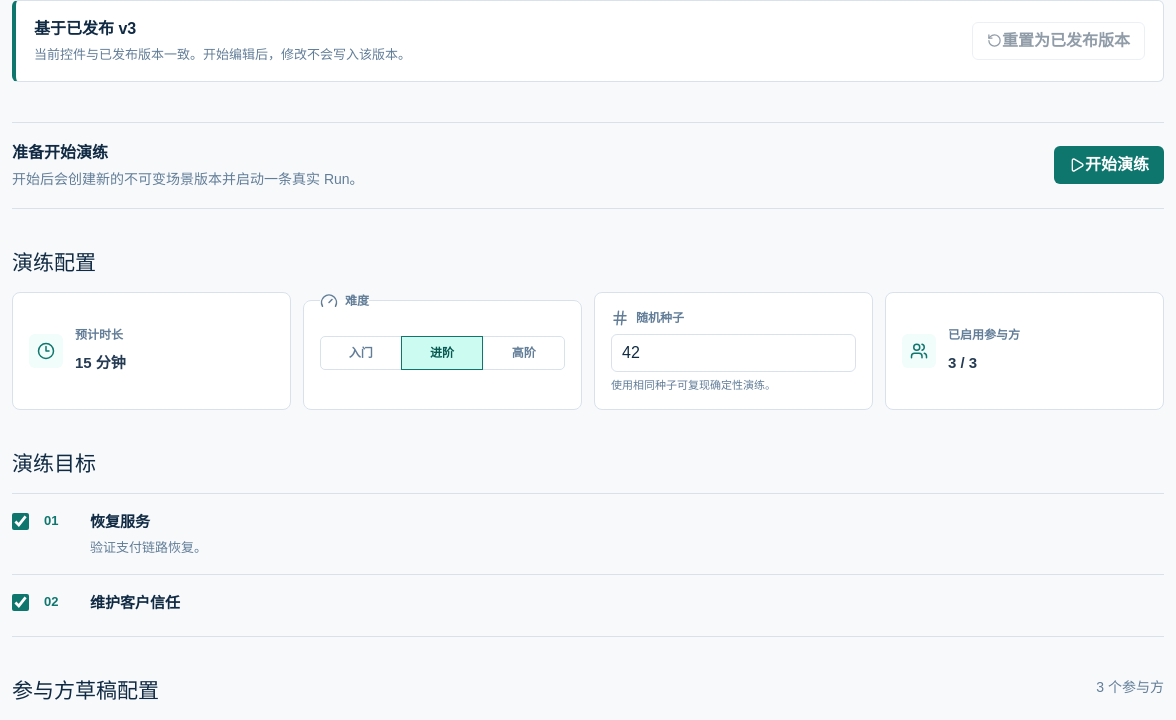
Test case: StudioDraft › 校验随机种子并可重置完整草稿
Replace the text in the number field labelled "随机种子" with "1.5". click: (734, 353)
box: left=611, top=334, right=856, bottom=372
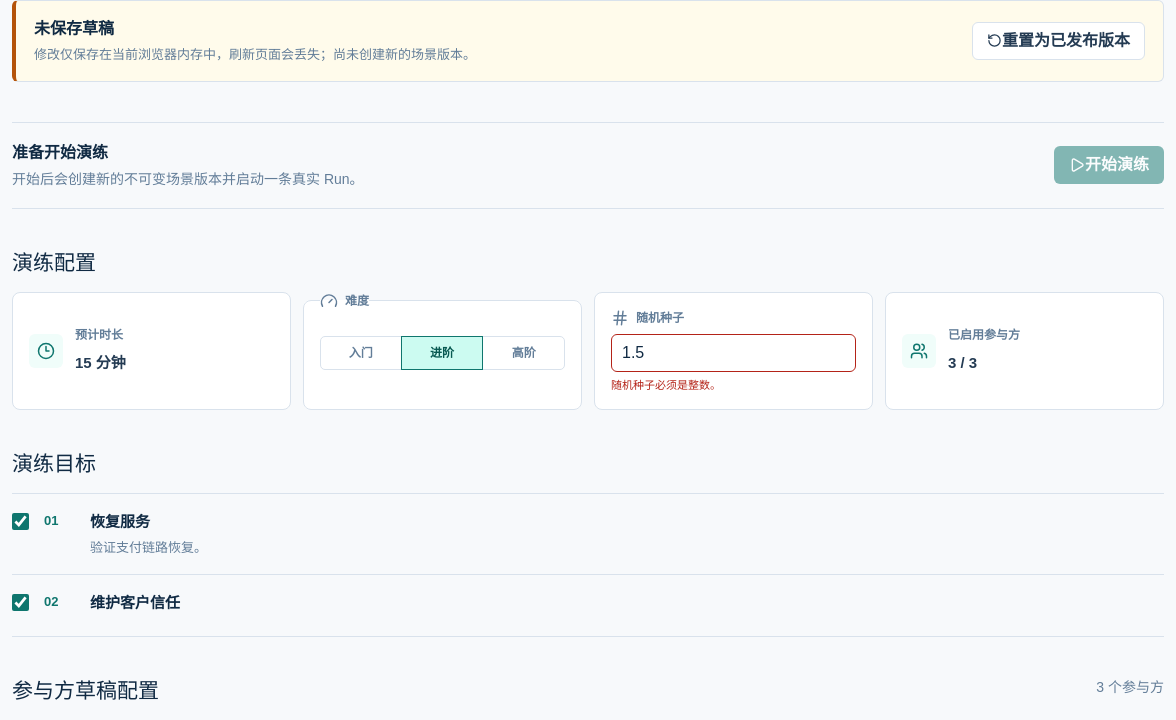
Now the text "随机种子必须是整数。" is shown, box left=611, top=379, right=721, bottom=391
Replace the text in the number field labelled "随机种子" with "2147483648". click: (734, 353)
box: left=611, top=334, right=856, bottom=372
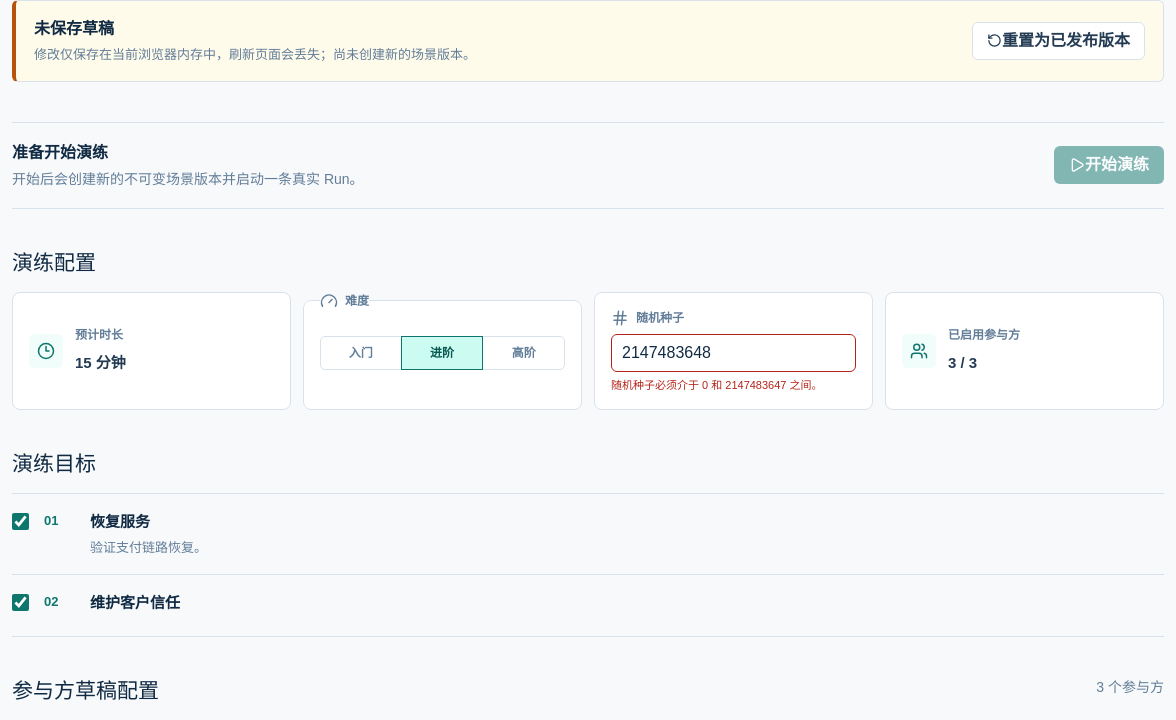
Now the text "随机种子必须介于 0 和 2147483647 之间。" is shown, box left=611, top=378, right=856, bottom=393
Click the button "重置为已发布版本". click: (1058, 41)
box: left=972, top=22, right=1145, bottom=60
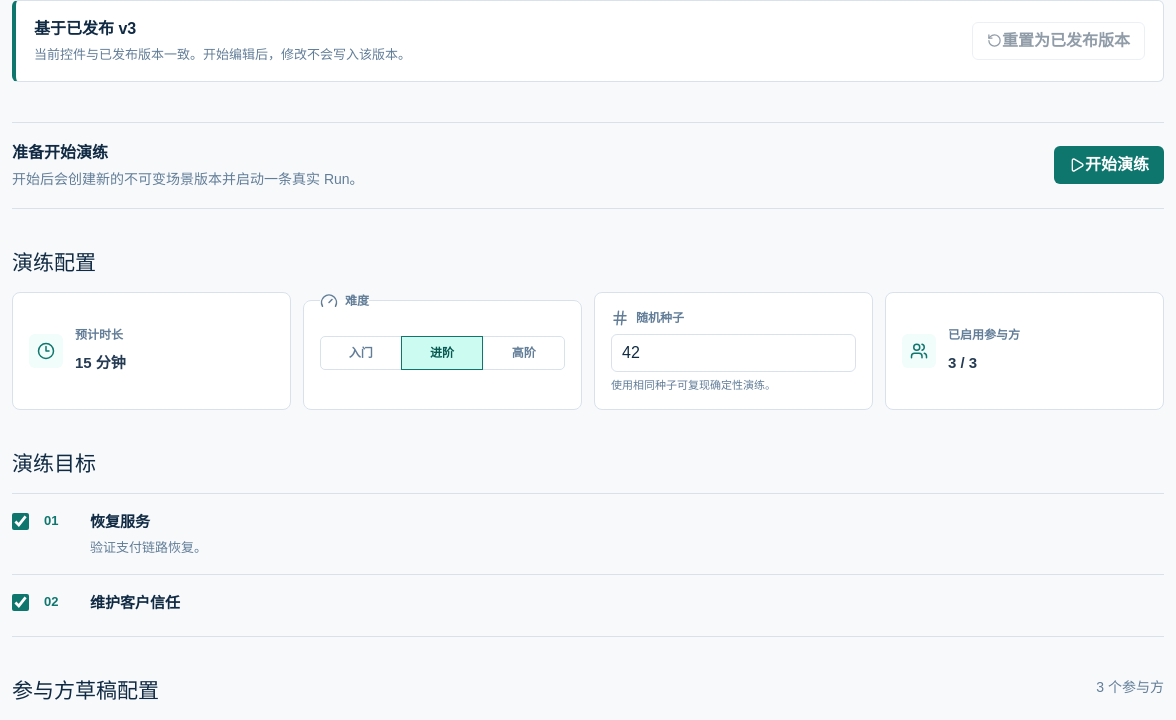
Now the number field labelled "随机种子" holds "42", box left=611, top=334, right=856, bottom=372
Now the message shows "基于已发布 v3", box left=34, top=20, right=136, bottom=37
Now the button "重置为已发布版本" is disabled, box left=972, top=22, right=1145, bottom=60
